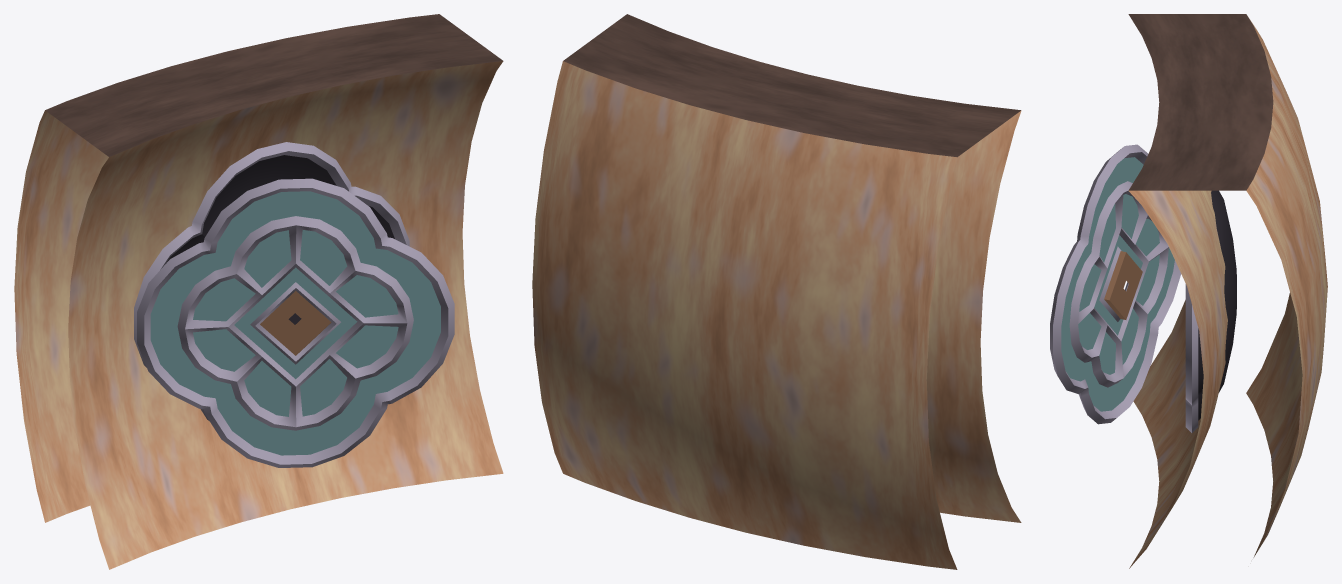
File: FI_076_francos_building_wall_key_cupboard_open.glb
3 views of the same model, side by side, from view 1: azimuth 30°, elevation 25°; view 2: azimuth 150°, elevation 25°; view 3: azimuth 270°, elevation 25° (orthographic). The views are drawn at different scales.
Visible parts, largest first — view 1: key_cupboard_open; view 2: key_cupboard_open; view 3: key_cupboard_open.
Part boxes in pixels (box(x1,y1,x2,y2)): key_cupboard_open: box(14, 14, 503, 569); key_cupboard_open: box(532, 14, 1021, 569); key_cupboard_open: box(1050, 14, 1327, 568).
Bounding box in the file's own units: 3 × 3 × 1.99.
6 materials, 2 textured.
